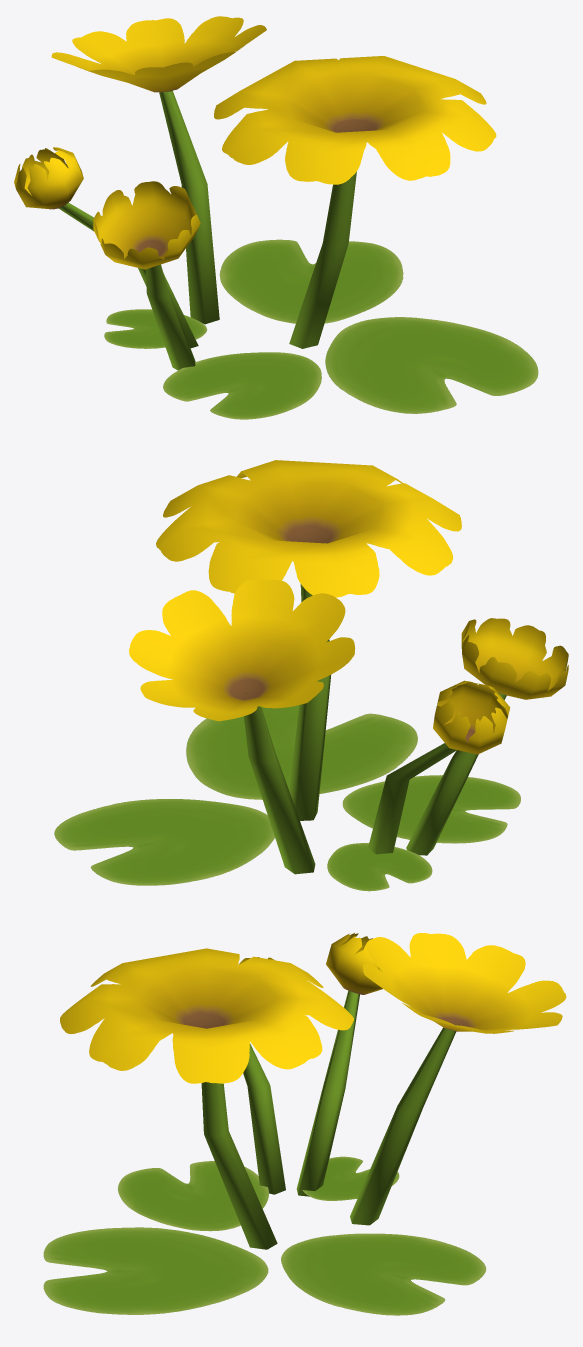
The model's file is waterplant_4.fbx.
3 renders of one model, top to bottom at view 1: azimuth 30°, elevation 25°; view 2: azimuth 150°, elevation 25°; view 3: azimuth 270°, elevation 25°, orthographic. The views are drawn at different scales.
Parts seen in each view (by area): view 1: water_plant_4; view 2: water_plant_4; view 3: water_plant_4.
Part boxes in pixels (box(x1,y1,x2,y2)): water_plant_4: box(14, 16, 538, 419); water_plant_4: box(54, 460, 568, 891); water_plant_4: box(43, 933, 566, 1315).
Size of the model in its own units: 325 by 192 by 363.
